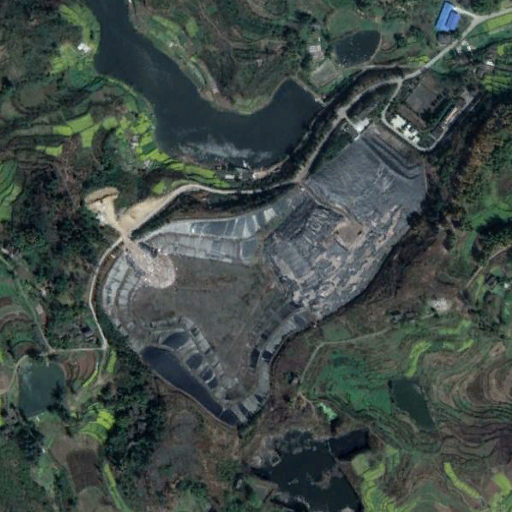lf: (90, 120, 431, 430)
